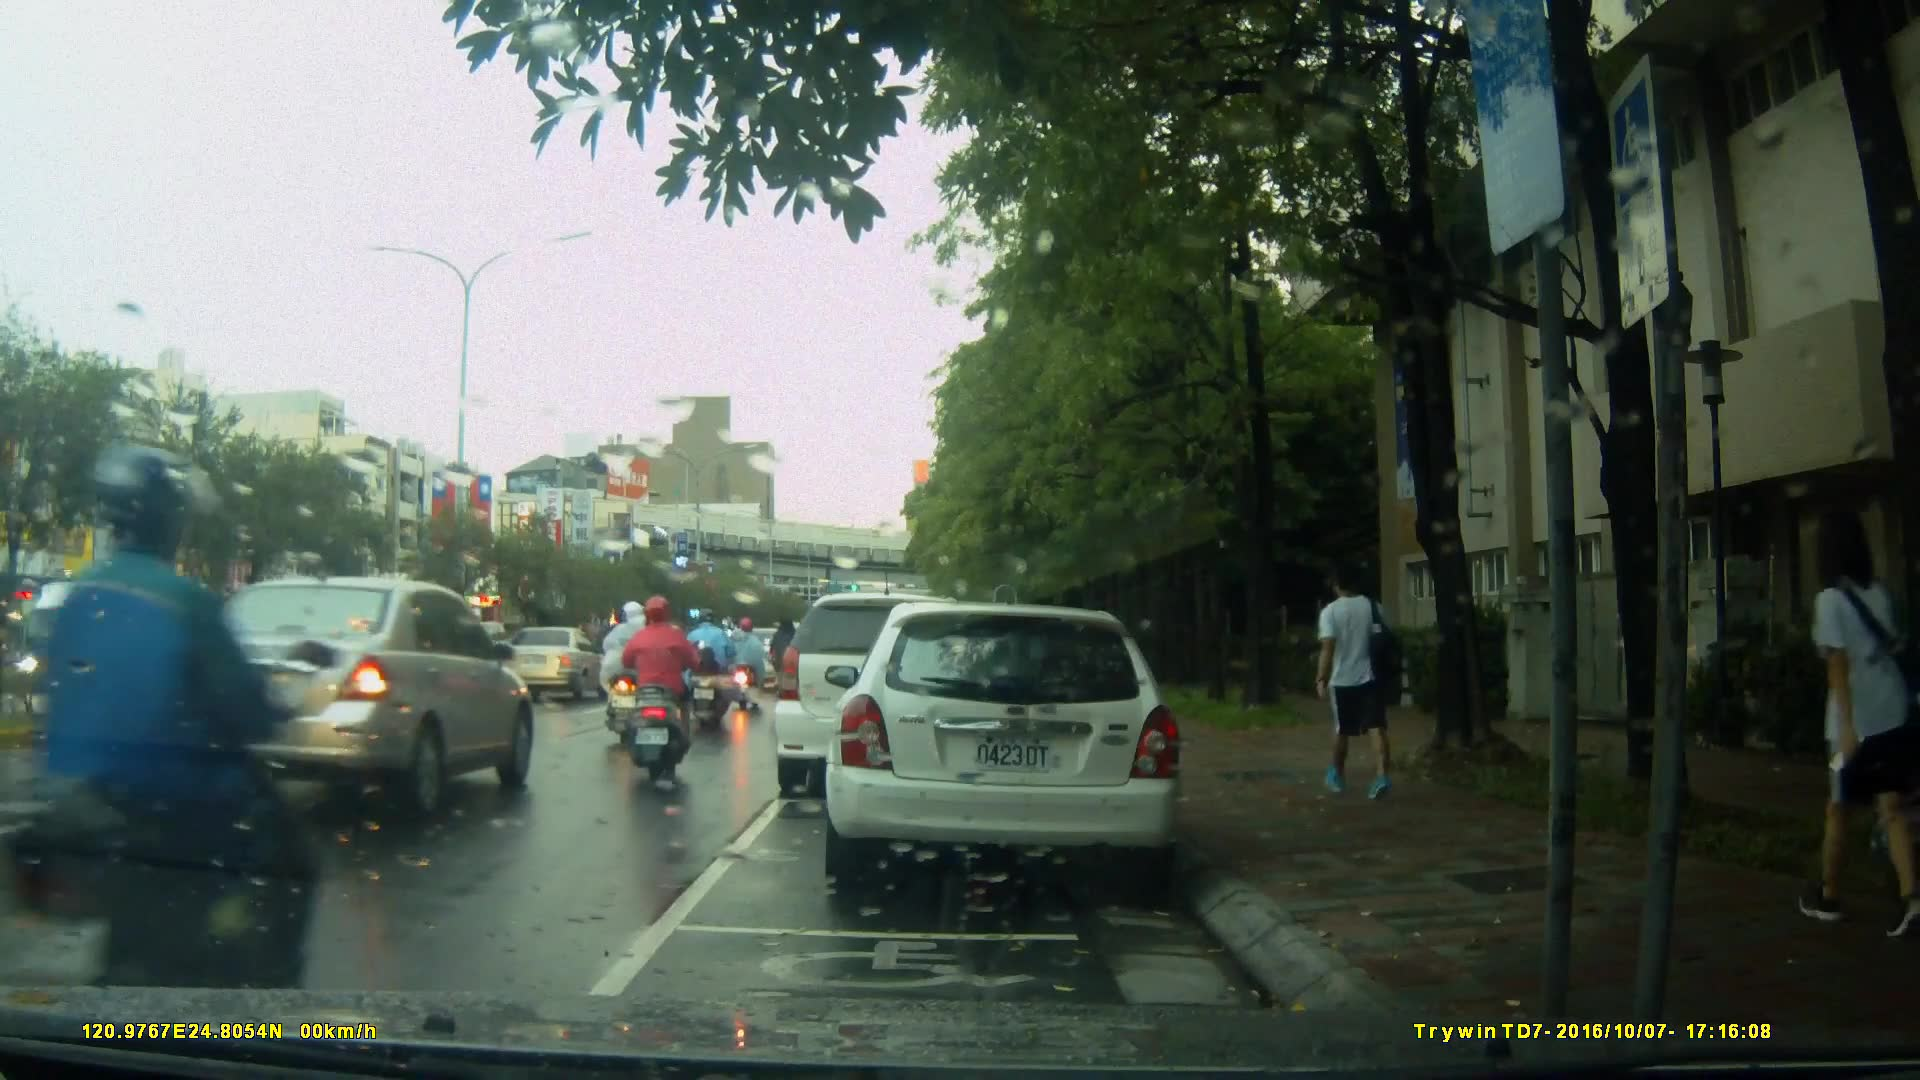pedestrian: (1791, 503, 1910, 940), (1311, 556, 1404, 811)
rider: (24, 434, 314, 1049), (611, 597, 693, 791), (608, 603, 660, 749), (683, 609, 741, 732), (731, 614, 771, 713), (773, 610, 807, 723)
vehicle: (822, 604, 1188, 882), (163, 575, 536, 822), (774, 595, 995, 802), (495, 624, 612, 706)
